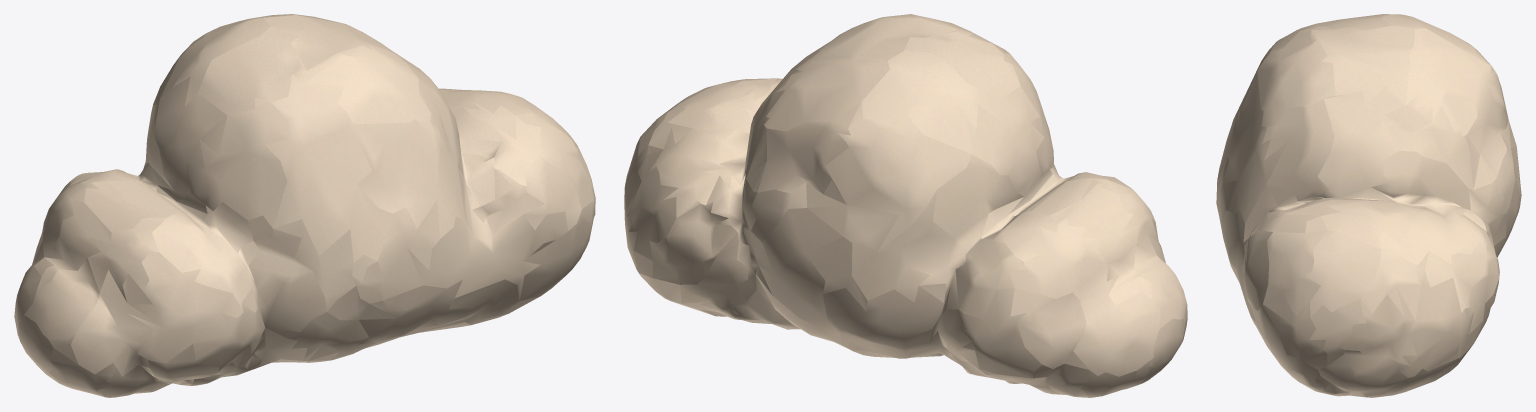
The model's file is cloud.glb.
3 renders of one model, left to right at view 1: azimuth 30°, elevation 25°; view 2: azimuth 150°, elevation 25°; view 3: azimuth 270°, elevation 25°, orthographic. The views are drawn at different scales.
Parts seen in each view (by area): view 1: cloud; view 2: cloud; view 3: cloud.
Part boxes in pixels (left/top/right/bottom): cloud: left=14, top=14, right=595, bottom=397; cloud: left=624, top=14, right=1187, bottom=397; cloud: left=1216, top=14, right=1521, bottom=397.
Size of the model in its own units: 1.9 by 1.03 by 1.02.
Materials: 1 (1 with a texture image).
